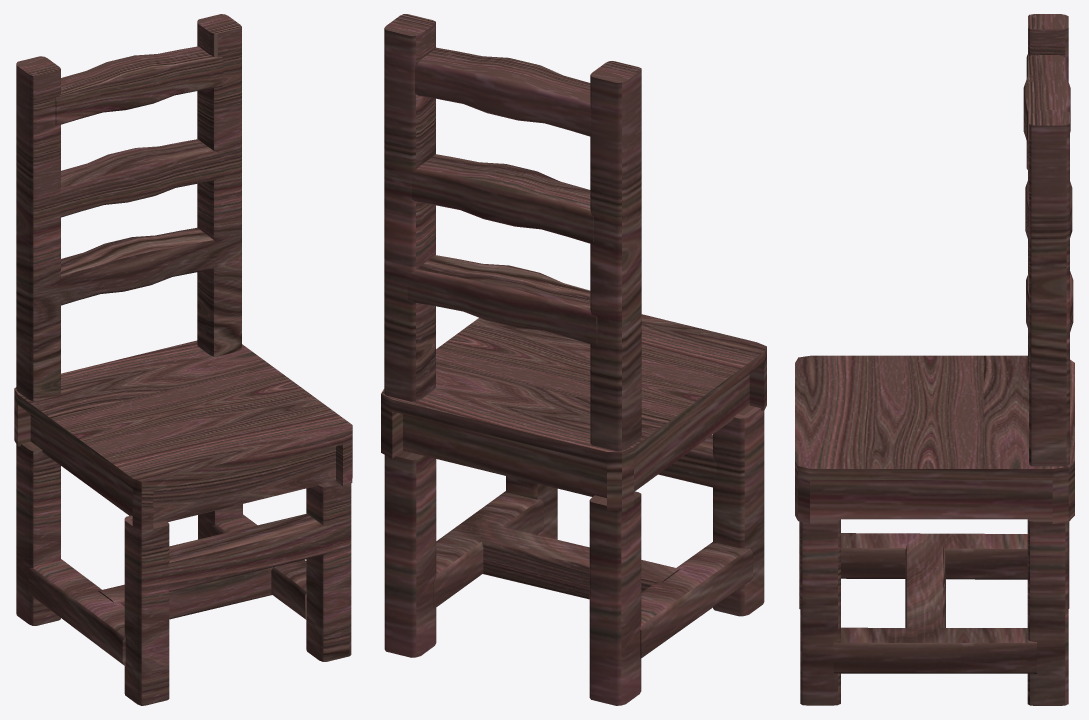
The model's file is chair.fbx.
3 views of the same model, side by side, from view 1: azimuth 30°, elevation 25°; view 2: azimuth 150°, elevation 25°; view 3: azimuth 270°, elevation 25° (orthographic). The views are drawn at different scales.
Parts seen in each view (by area): view 1: polySurface3; view 2: polySurface3; view 3: polySurface3.
Part boxes in pixels (x1=…): polySurface3: x1=14, y1=14, x2=352, y2=705; polySurface3: x1=381, y1=14, x2=766, y2=705; polySurface3: x1=795, y1=14, x2=1074, y2=705.
Bounding box in the file's own units: 3.83 × 9.19 × 4.
